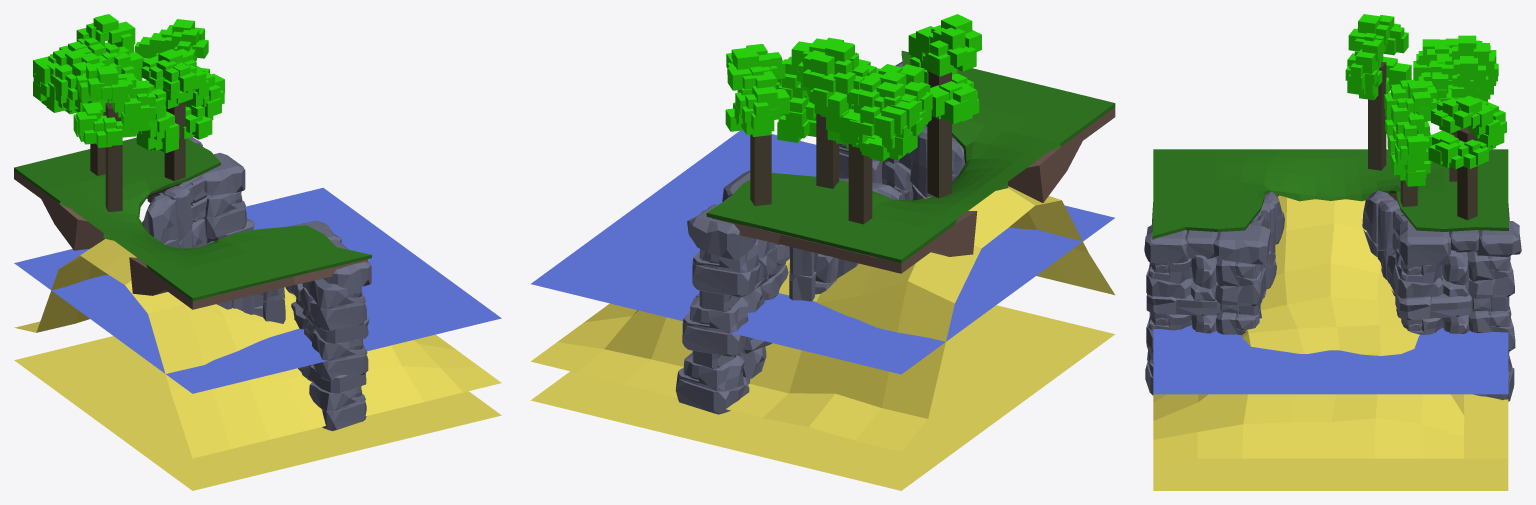
File: 45__tile.fbx
3 renders of one model, left to right at view 1: azimuth 30°, elevation 25°; view 2: azimuth 150°, elevation 25°; view 3: azimuth 270°, elevation 25°, orthographic. The views are drawn at different scales.
Parts seen in each view (by area): view 1: 45__tile; view 2: 45__tile; view 3: 45__tile.
Part boxes in pixels (x1,y1,x2,y2): 45__tile: (14,14,501,490); 45__tile: (530,14,1115,490); 45__tile: (1144,14,1521,490).
Bounding box in the file's own units: 200 × 209 × 213.
